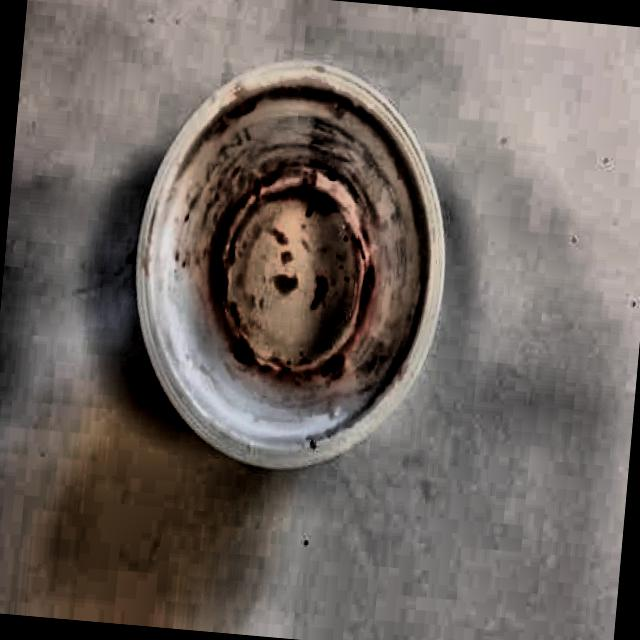trash: (114, 41, 464, 474)
